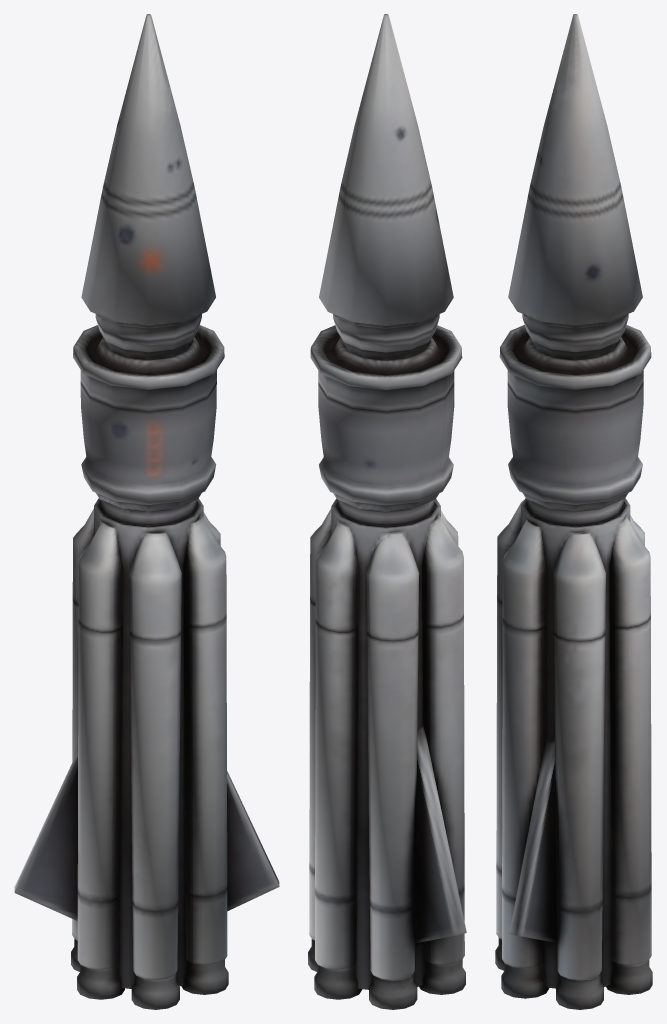
The model's file is Spaceship_2.glb.
The picture shows the model from 3 angles, left to right: view 1: azimuth 30°, elevation 25°; view 2: azimuth 150°, elevation 25°; view 3: azimuth 270°, elevation 25°; orthographic projection.
Visible parts, largest first — view 1: spaceship; view 2: spaceship; view 3: spaceship.
Boxes of the visible parts, box(x1,y1,x2,y2) form: spaceship: box(14, 14, 279, 1009); spaceship: box(308, 14, 466, 1009); spaceship: box(495, 14, 652, 1009).
Bounding box in the file's own units: 0.7201 × 3.14 × 0.4672.
1 material, 1 textured.
